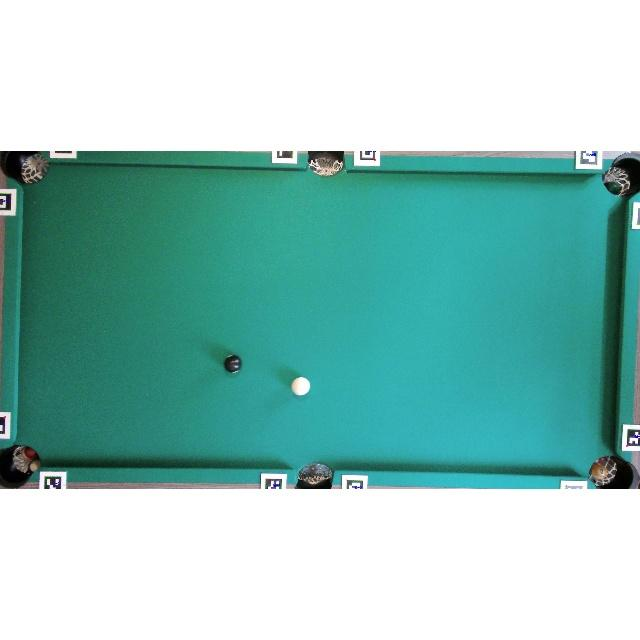cue ball: (290, 375, 310, 396)
other: (224, 355, 242, 373)
